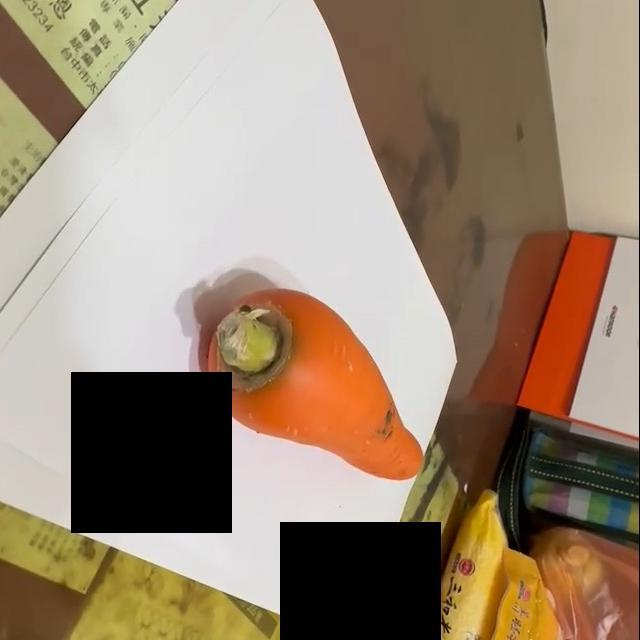carrot: (204, 287, 428, 483)
